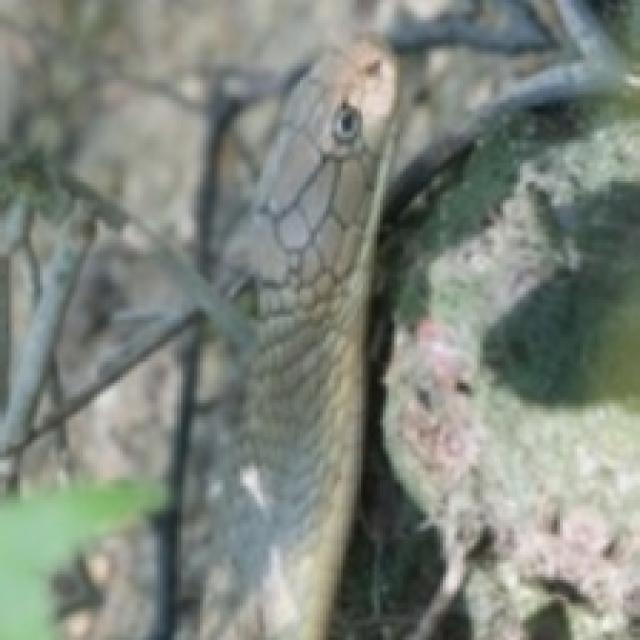king cobra: (157, 40, 394, 637)
